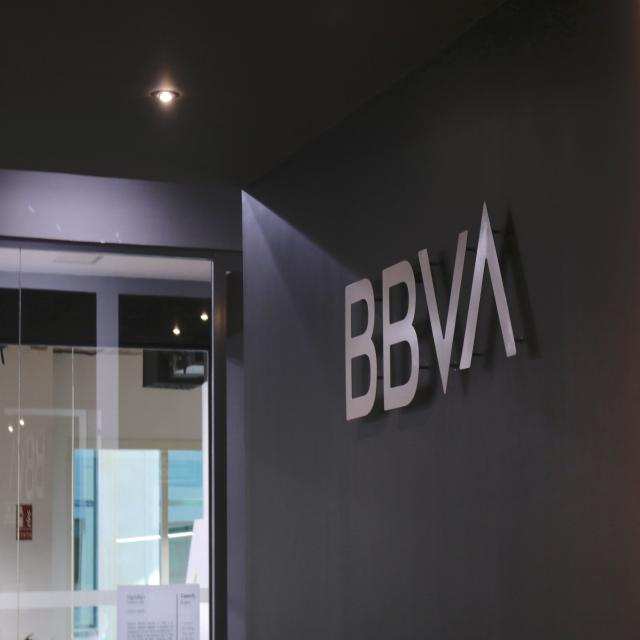BBVA: (341, 194, 518, 422)
